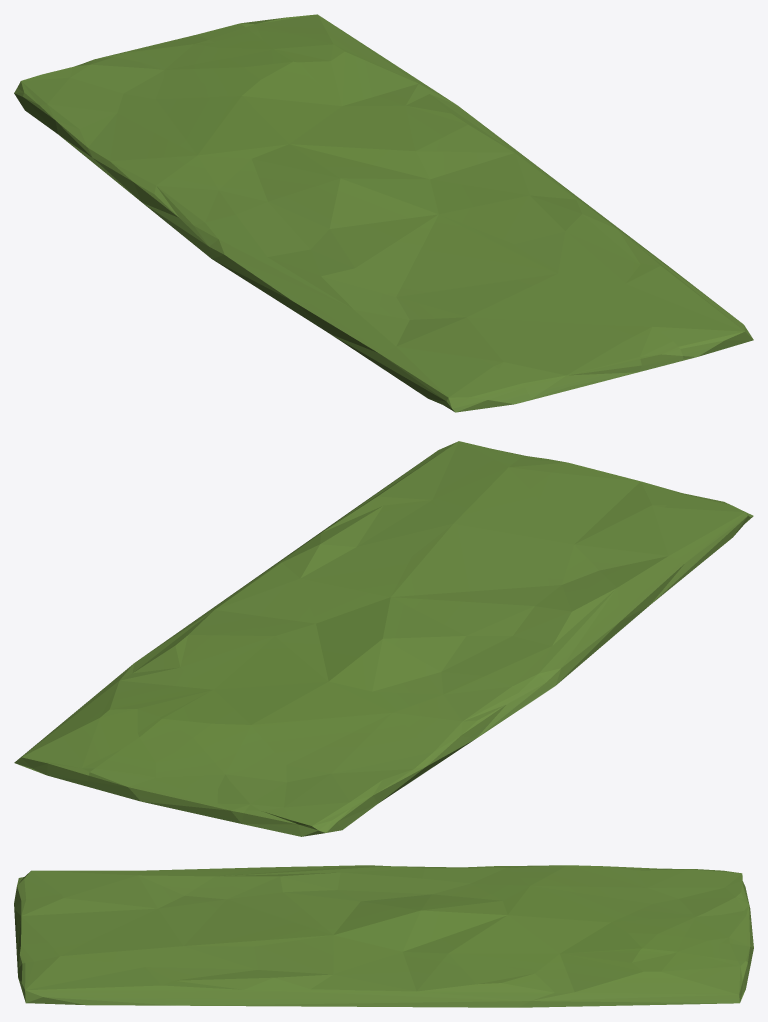
The model's file is MudRoad_01.fbx.
3 renders of one model, top to bottom at view 1: azimuth 30°, elevation 25°; view 2: azimuth 150°, elevation 25°; view 3: azimuth 270°, elevation 25°, orthographic. The views are drawn at different scales.
Parts seen in each view (by area): view 1: MudRoad_01; view 2: MudRoad_01; view 3: MudRoad_01.
Boxes of the visible parts, <box> form: MudRoad_01: <box>14,14,753,412</box>; MudRoad_01: <box>14,441,753,836</box>; MudRoad_01: <box>14,865,753,1007</box>.
Bounding box in the file's own units: 3.7 × 0.3011 × 8.5.
